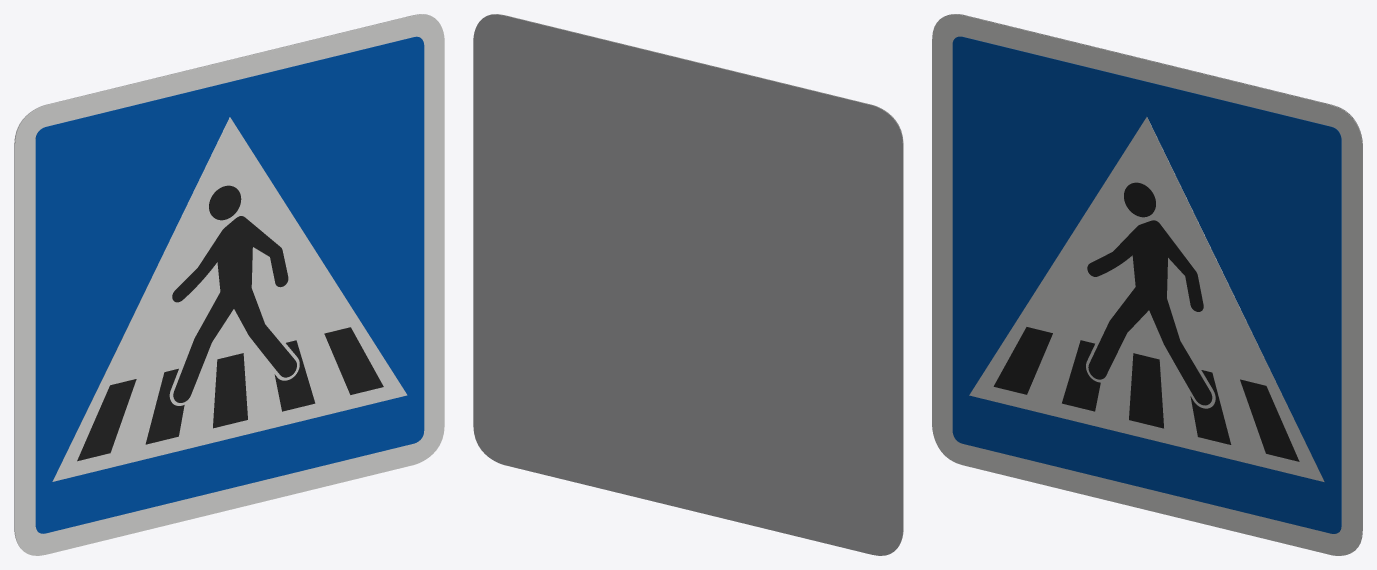
The picture shows the model from 3 angles, left to right: view 1: azimuth 30°, elevation 25°; view 2: azimuth 150°, elevation 25°; view 3: azimuth 330°, elevation 25°; orthographic projection.
Parts seen in each view (by area): view 1: C20a_p01, C20a_p02, C20a_p00, C20a_p08, C20a_p05, C20a_p03, C20a_p07, C20a_p04, C20a_p06, C20a_dos, C20a_p09; view 2: C20a_dos, C20a_p00; view 3: C20a_p01, C20a_p02, C20a_p00, C20a_p08, C20a_p05, C20a_p07, C20a_p03, C20a_p04, C20a_p06, C20a_dos, C20a_p09.
Boxes of the visible parts, <box> form: C20a_p01: <box>35,36,424,533</box>; C20a_p02: <box>52,117,407,481</box>; C20a_p00: <box>15,14,444,555</box>; C20a_p08: <box>172,216,296,402</box>; C20a_p05: <box>213,353,247,428</box>; C20a_p03: <box>77,379,136,461</box>; C20a_p07: <box>324,327,383,394</box>; C20a_p04: <box>145,368,184,444</box>; C20a_p06: <box>274,340,315,411</box>; C20a_dos: <box>14,14,430,548</box>; C20a_p09: <box>209,185,241,220</box>; C20a_dos: <box>473,14,902,555</box>; C20a_p00: <box>487,14,903,548</box>; C20a_p01: <box>952,36,1341,533</box>; C20a_p02: <box>969,117,1324,481</box>; C20a_p00: <box>932,14,1362,555</box>; C20a_p08: <box>1087,220,1212,405</box>; C20a_p05: <box>1129,353,1163,428</box>; C20a_p07: <box>1240,379,1299,461</box>; C20a_p03: <box>993,327,1052,394</box>; C20a_p04: <box>1062,340,1100,411</box>; C20a_p06: <box>1190,370,1231,444</box>; C20a_dos: <box>945,14,1362,550</box>; C20a_p09: <box>1124,182,1155,217</box>.
Bounding box in the file's own units: 0.7 × 0.6999 × 0.0055.
